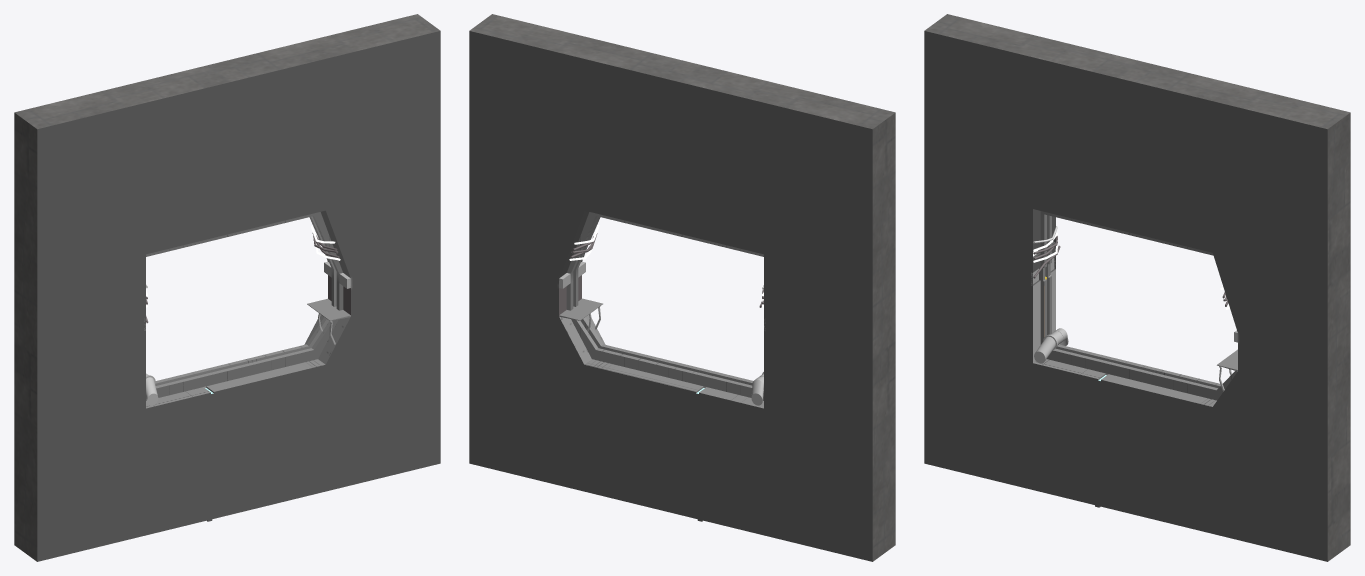
The model's file is Tunnel 2.fbx.
3 renders of one model, left to right at view 1: azimuth 30°, elevation 25°; view 2: azimuth 150°, elevation 25°; view 3: azimuth 330°, elevation 25°, orthographic.
Parts seen in each view (by area): view 1: Cube.013; view 2: Cube.013; view 3: Cube.013.
Part boxes in pixels (bbox=[...]): Cube.013: bbox=[14, 14, 440, 561]; Cube.013: bbox=[469, 14, 895, 561]; Cube.013: bbox=[924, 14, 1350, 561].
Size of the model in its own units: 7126 by 7328 by 712.
